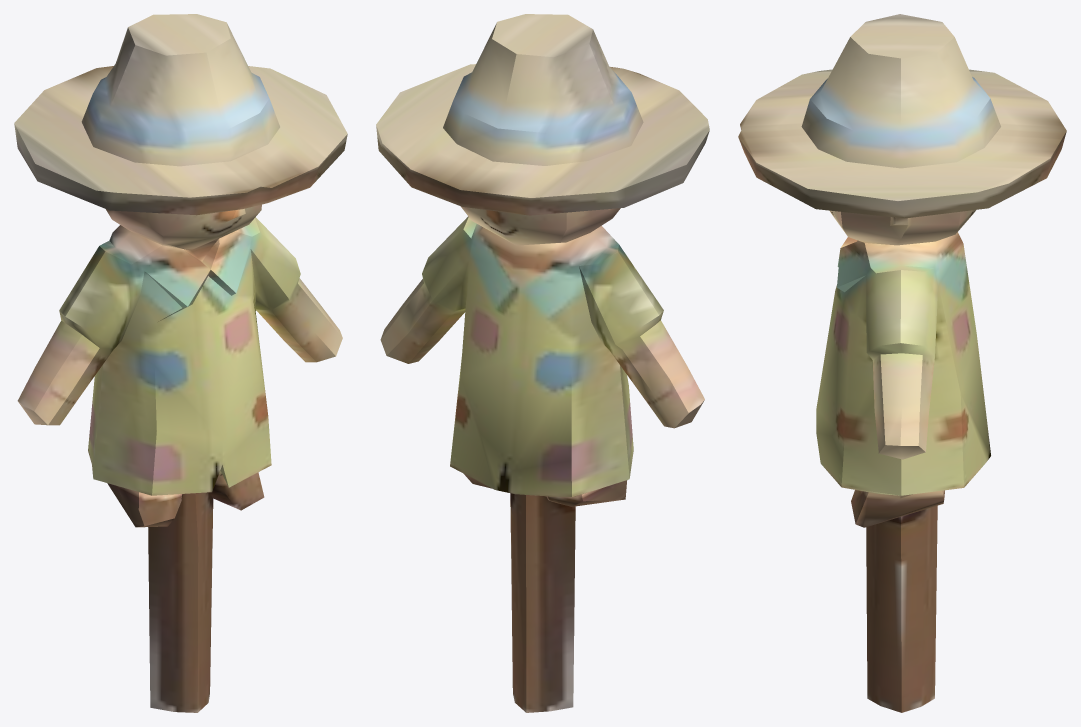
The picture shows the model from 3 angles, left to right: view 1: azimuth 30°, elevation 25°; view 2: azimuth 150°, elevation 25°; view 3: azimuth 270°, elevation 25°; orthographic projection.
Visible parts, largest first — view 1: Decor_scarecrow; view 2: Decor_scarecrow; view 3: Decor_scarecrow.
Part boxes in pixels (x1=…): Decor_scarecrow: x1=14, y1=14, x2=347, y2=712; Decor_scarecrow: x1=376, y1=14, x2=709, y2=712; Decor_scarecrow: x1=738, y1=14, x2=1066, y2=712.
Size of the model in its own units: 0.8919 by 1.79 by 0.8067.
Materials: 1 (1 with a texture image).
